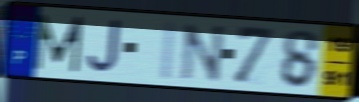7: (235, 24, 276, 87)
8: (280, 28, 321, 90)
I: (157, 18, 180, 83)
J: (85, 18, 122, 76)
M: (32, 12, 85, 74)
N: (179, 22, 228, 85)
